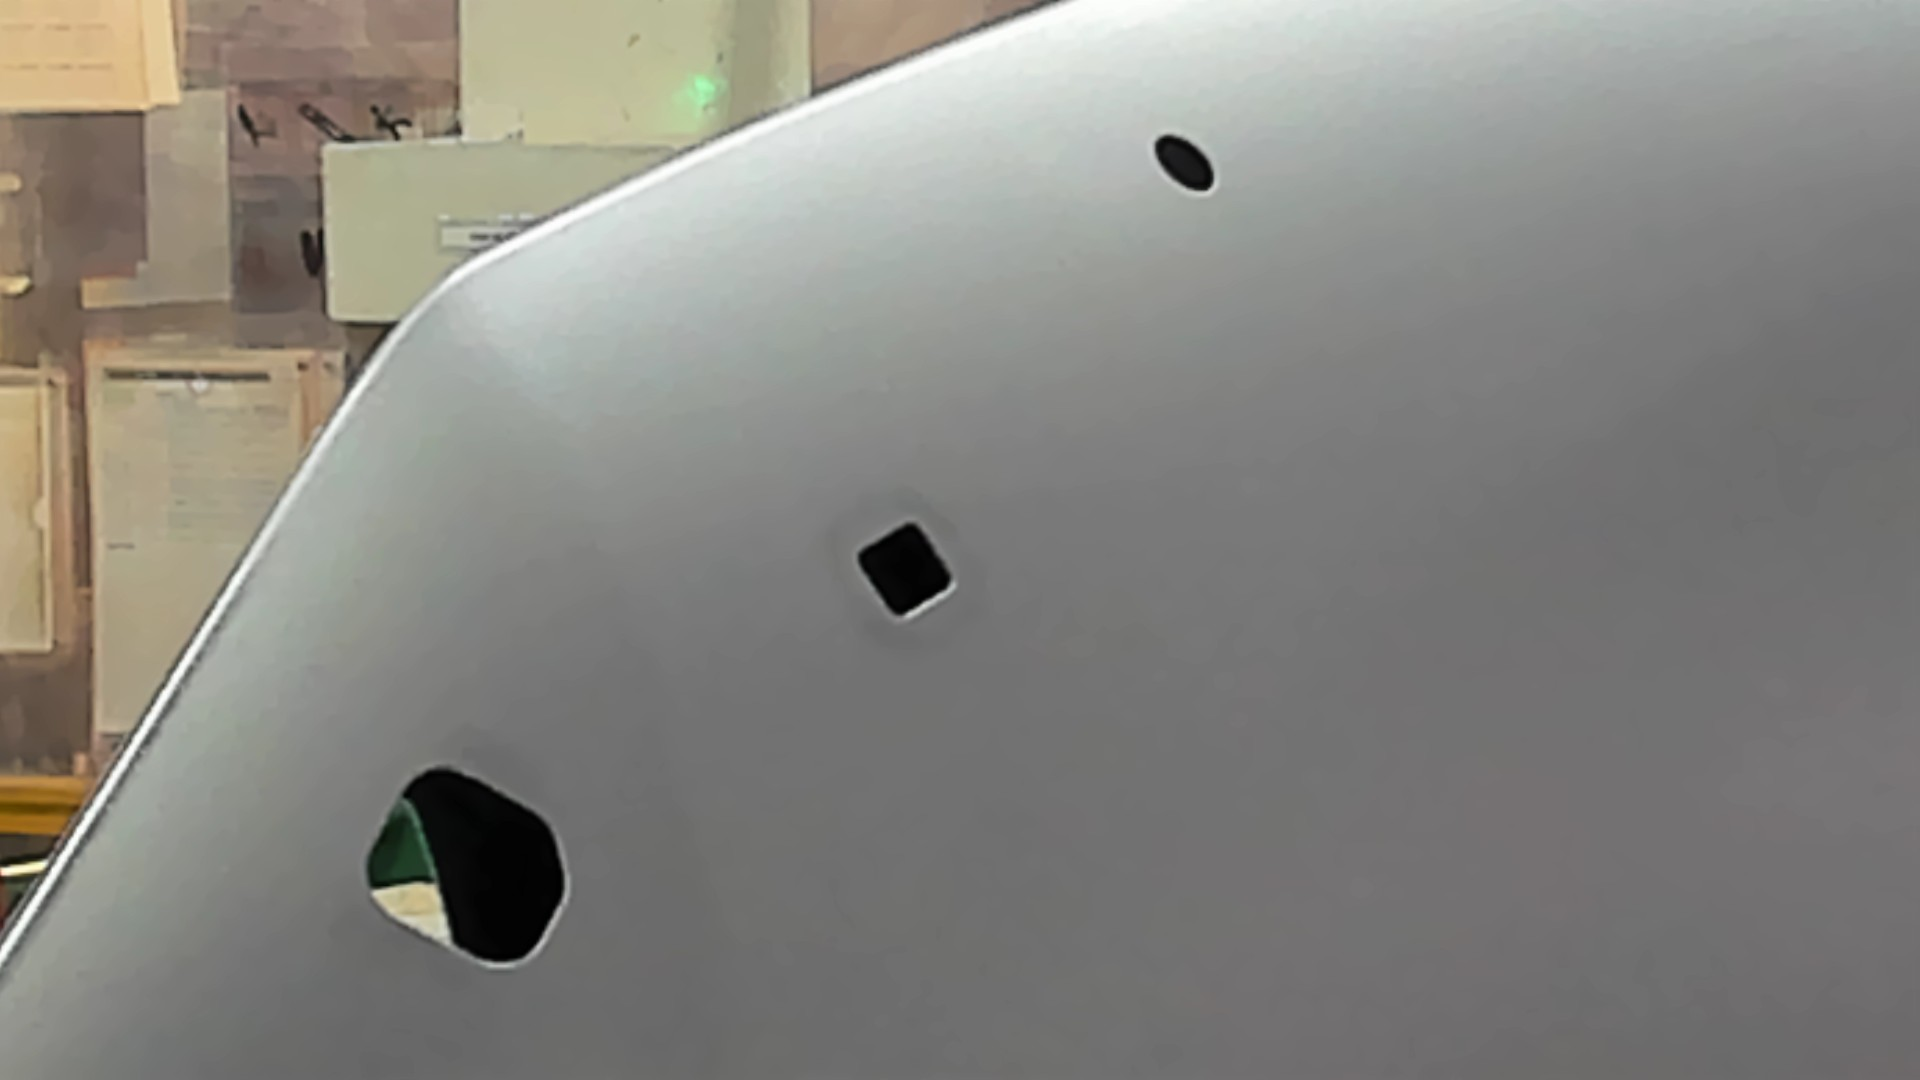chico: (1142, 117, 1220, 208)
grande: (324, 752, 597, 986)
mediano: (823, 509, 1029, 629)
